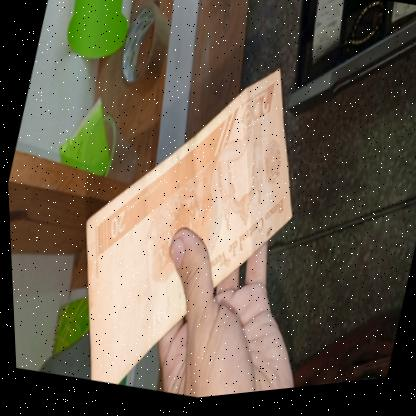twenty-back-vef: (36, 29, 332, 413)
